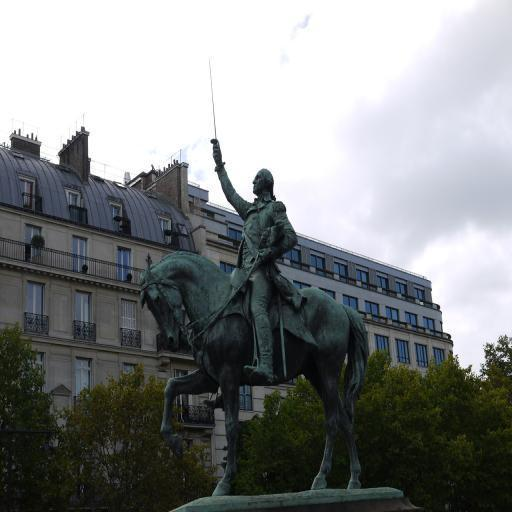horse: (140, 252, 370, 494)
